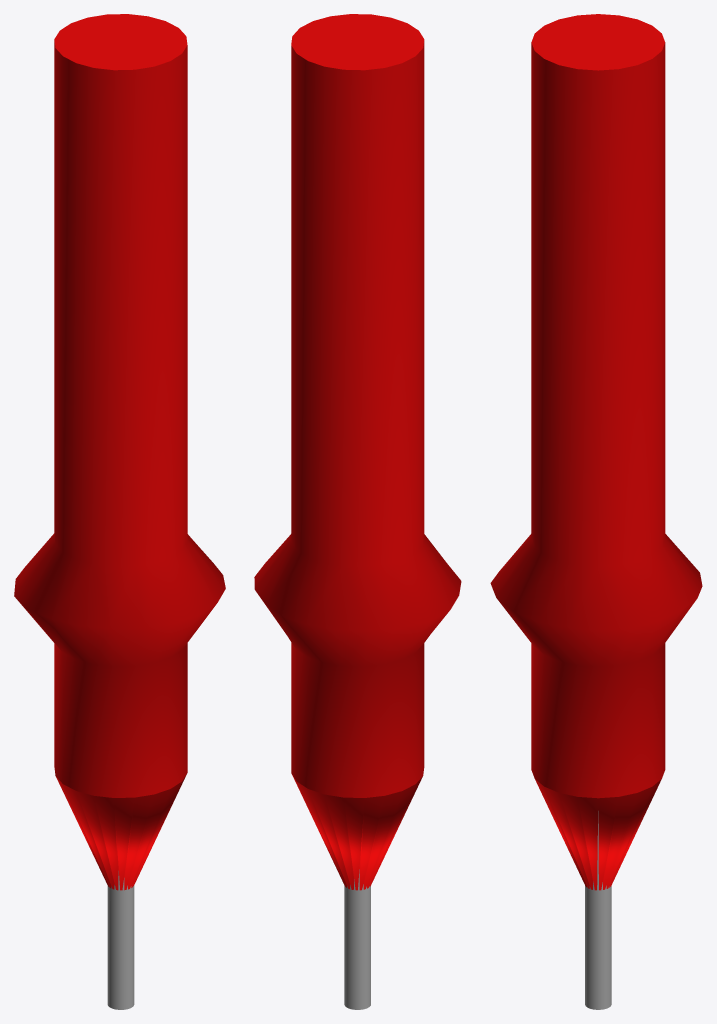
The model's file is テスタ.fbx.
The picture shows the model from 3 angles, left to right: view 1: azimuth 30°, elevation 25°; view 2: azimuth 150°, elevation 25°; view 3: azimuth 270°, elevation 25°; orthographic projection.
Parts seen in each view (by area): view 1: pCylinder1, pCylinder2; view 2: pCylinder1, pCylinder2; view 3: pCylinder1, pCylinder2.
Boxes of the visible parts, x1,y1,x2,y2 form: pCylinder1: (14,14,225,890); pCylinder2: (107,871,134,1009); pCylinder1: (254,14,461,890); pCylinder2: (344,869,370,1009); pCylinder1: (490,14,702,890); pCylinder2: (585,811,611,1009).
Bounding box in the file's own units: 1.61 × 7.93 × 1.58.
